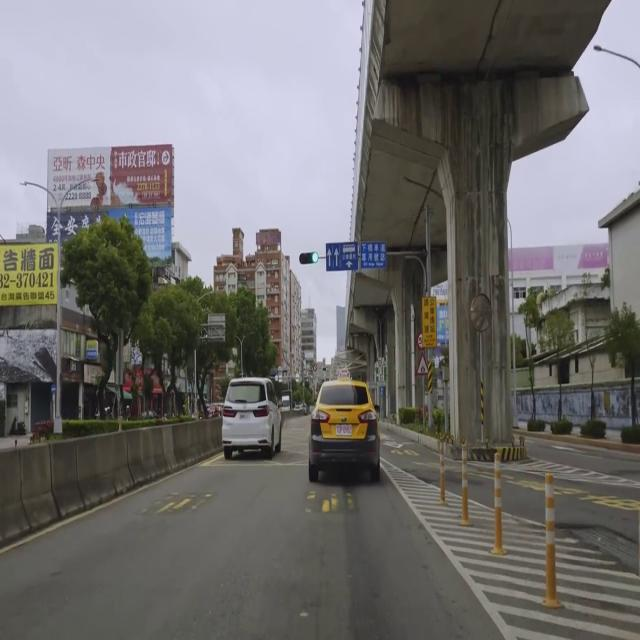green light: (298, 252, 318, 264)
